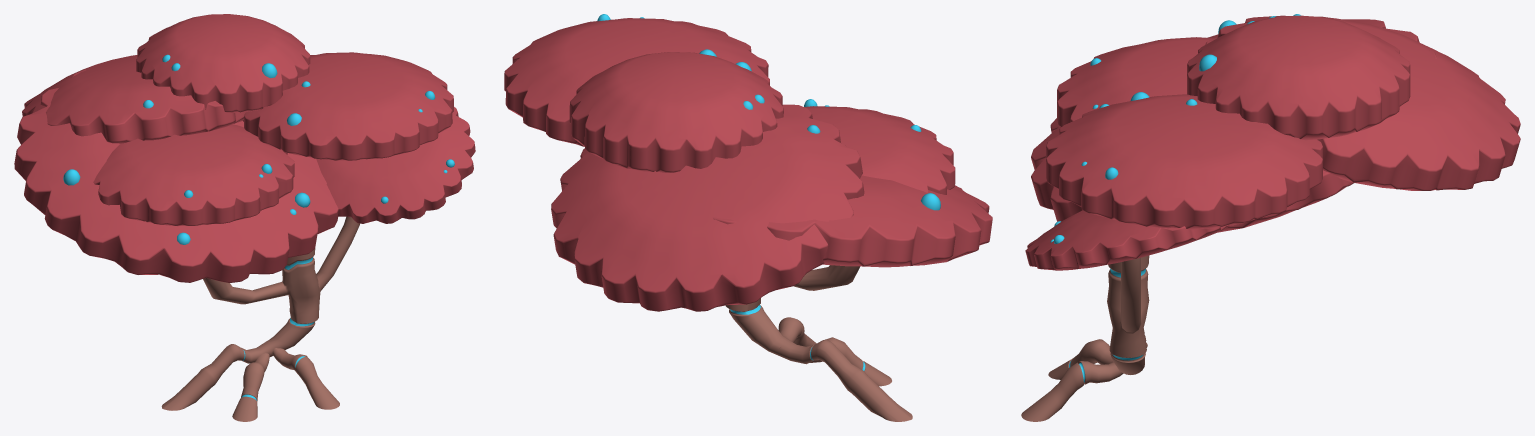
Rendered from Tree_color 1.fbx.
The picture shows the model from 3 angles, left to right: view 1: azimuth 30°, elevation 25°; view 2: azimuth 150°, elevation 25°; view 3: azimuth 270°, elevation 25°; orthographic projection. The views are drawn at different scales.
Visible parts, largest first — view 1: pSphere9; view 2: pSphere9; view 3: pSphere9.
Boxes of the visible parts, box(x1,y1,x2,y2) form: pSphere9: box(14, 14, 475, 421); pSphere9: box(504, 14, 992, 421); pSphere9: box(1021, 14, 1520, 421).
Size of the model in its own units: 1258 by 951 by 1116.
